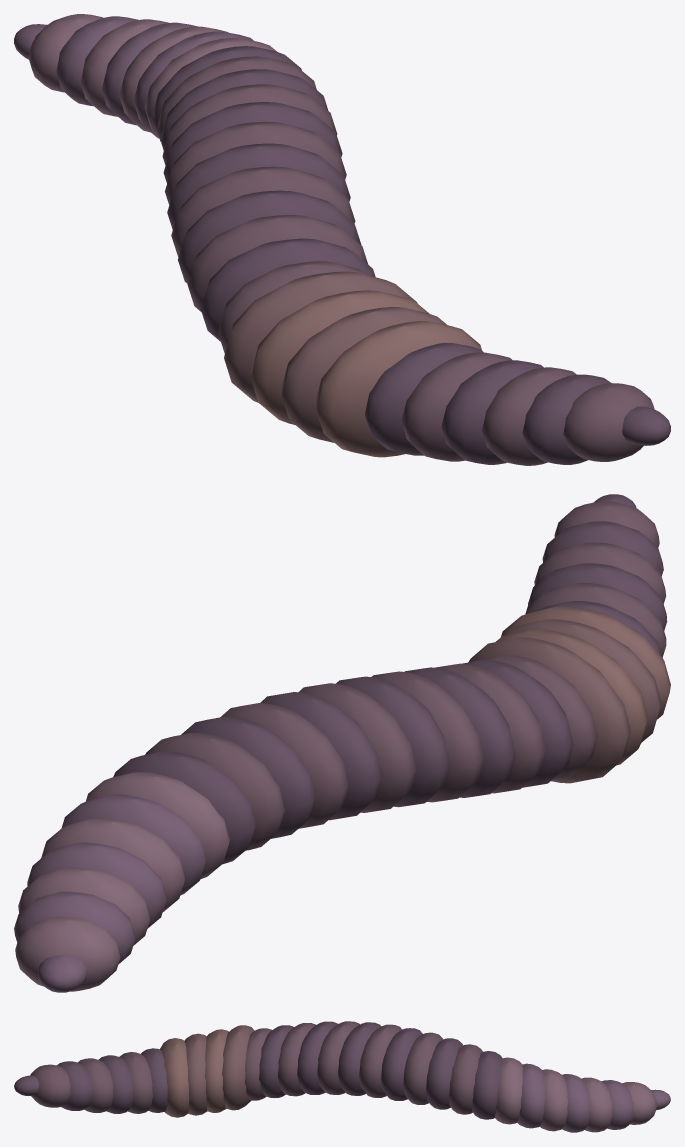
File: leech.glb
3 renders of one model, top to bottom at view 1: azimuth 30°, elevation 25°; view 2: azimuth 150°, elevation 25°; view 3: azimuth 270°, elevation 25°, orthographic. The views are drawn at different scales.
Visible parts, largest first — view 1: body, tail; view 2: body, tail; view 3: body, tail.
Boxes of the visible parts, x1,y1,x2,y2 form: body: (152,46,670,465); tail: (14,14,276,138); body: (113,494,670,864); tail: (14,772,229,992); body: (14,1021,502,1119); tail: (495,1057,670,1132).
Size of the model in its own units: 0.7016 by 0.3801 by 2.38.
